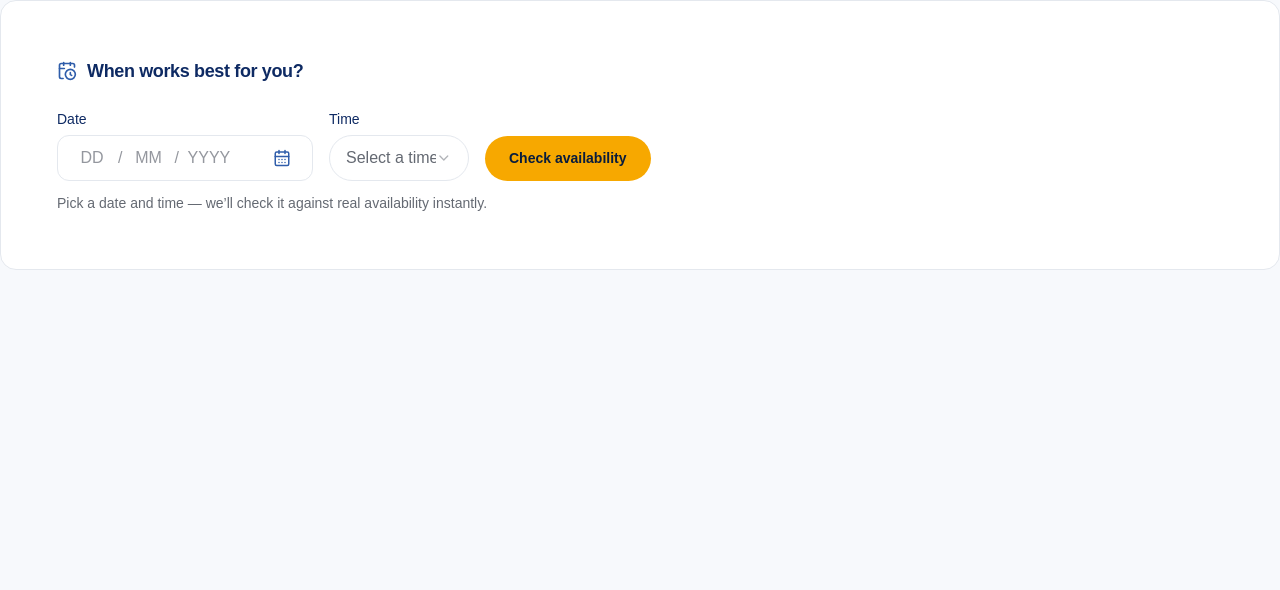
BookingWidget — ask-then-confirm flow › offers only real 30-minute-increment times within business hours, not free-form entry
Click the dropdown at (399, 158), box [329,135,469,181]
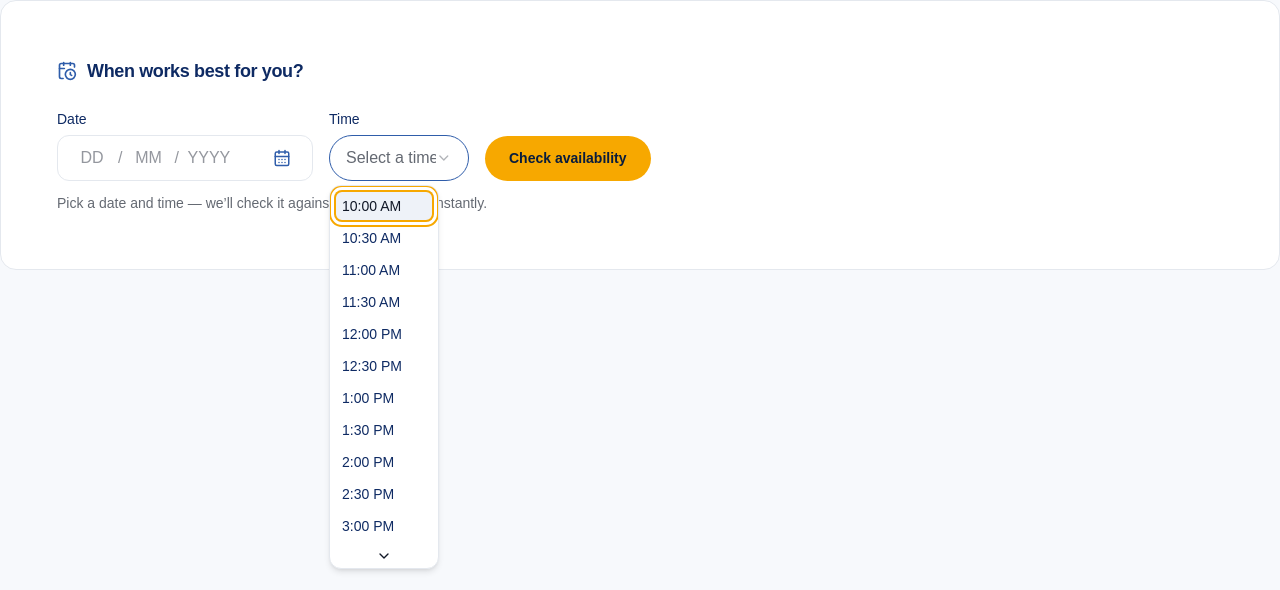
Expected: the text "12:30 PM" is shown, [342,356,402,376]
